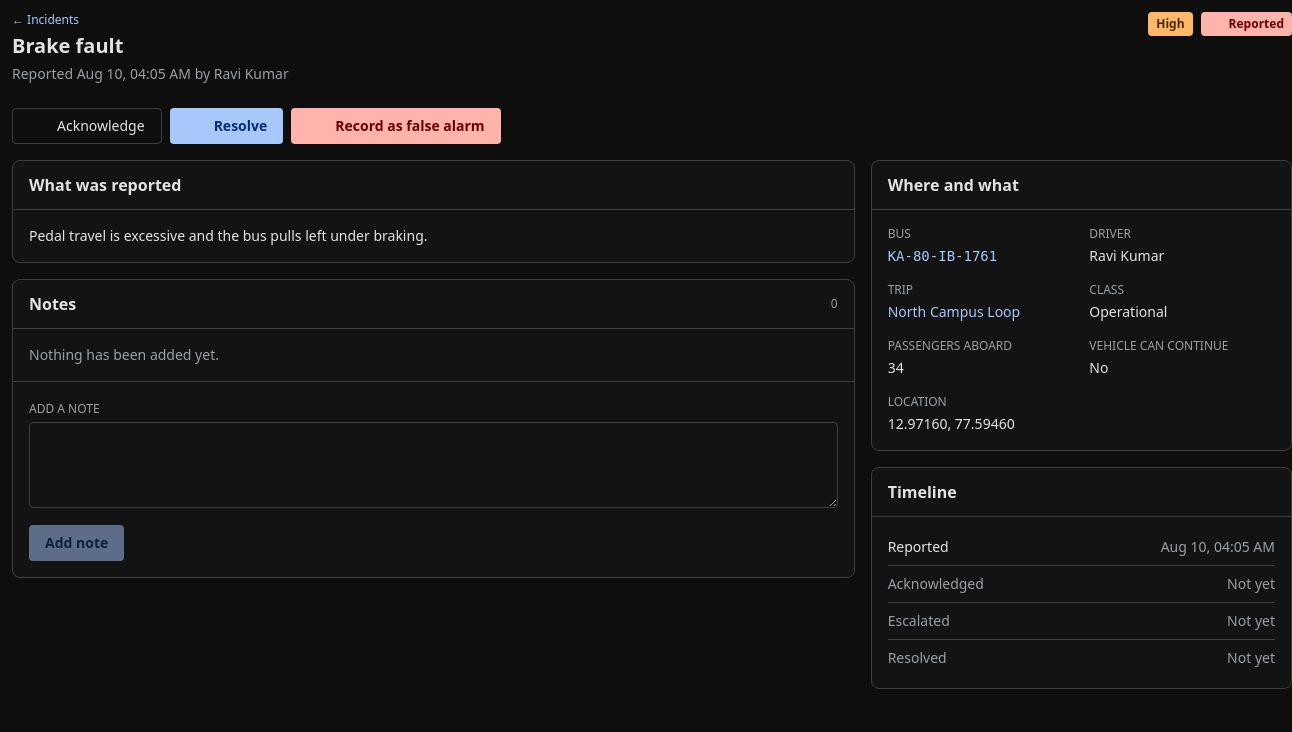
when the server refuses › routes a 422 back to the field that caused it
expect the heading "Brake fault" is shown: met, box [12,32,123,59]
Type "Workshop called." into the text box labelled "Add a note" at (433, 465), box [29,422,838,508]
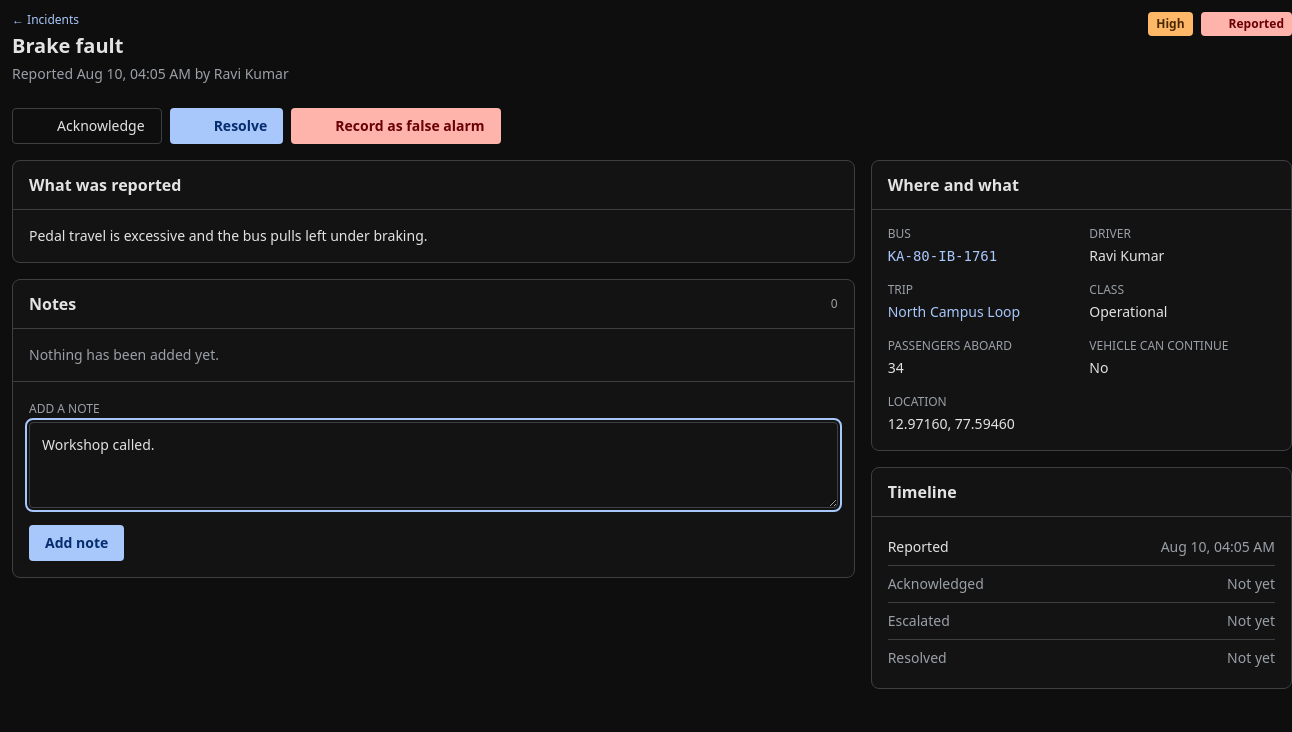
Click the button "Add note" at (77, 543), box [29,525,124,561]
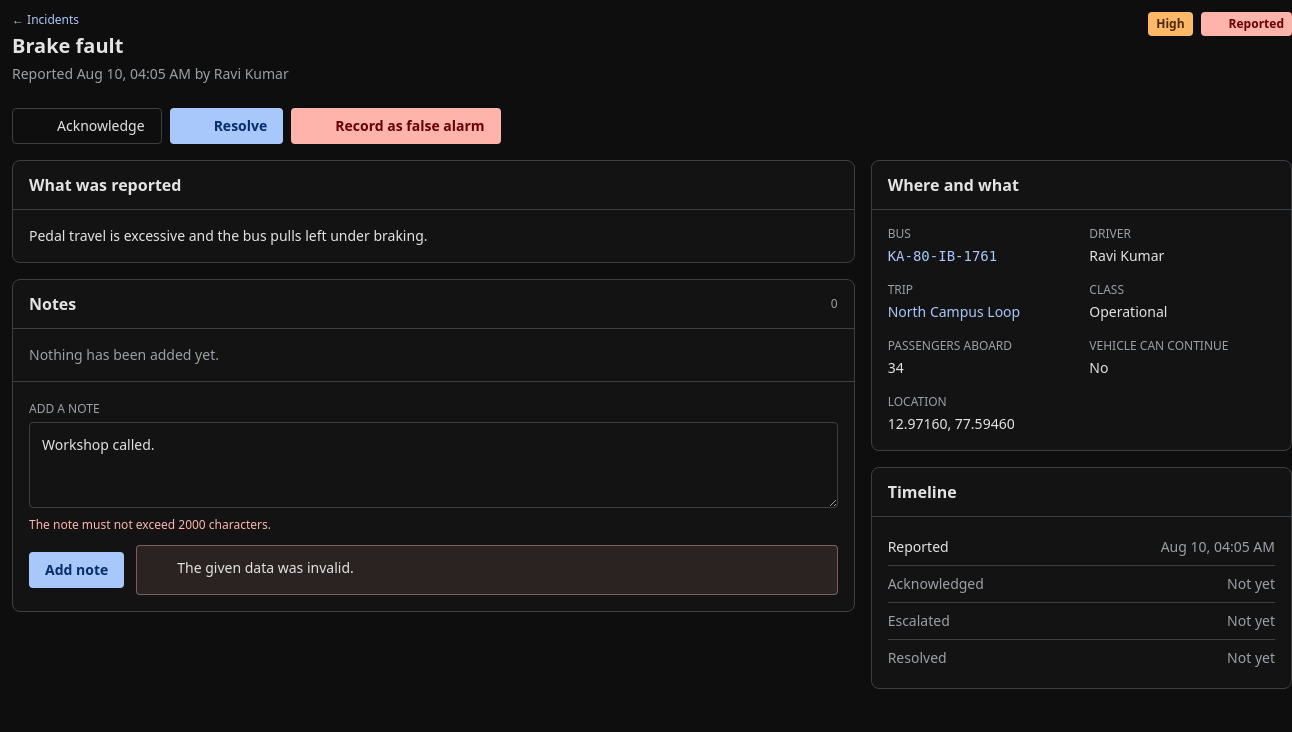
expect the text "The note must not exceed 2000 characters." is shown: met, box [29,516,271,533]
